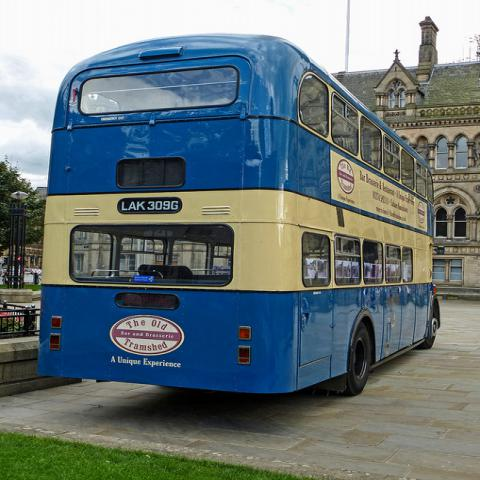bus: (39, 34, 442, 398)
